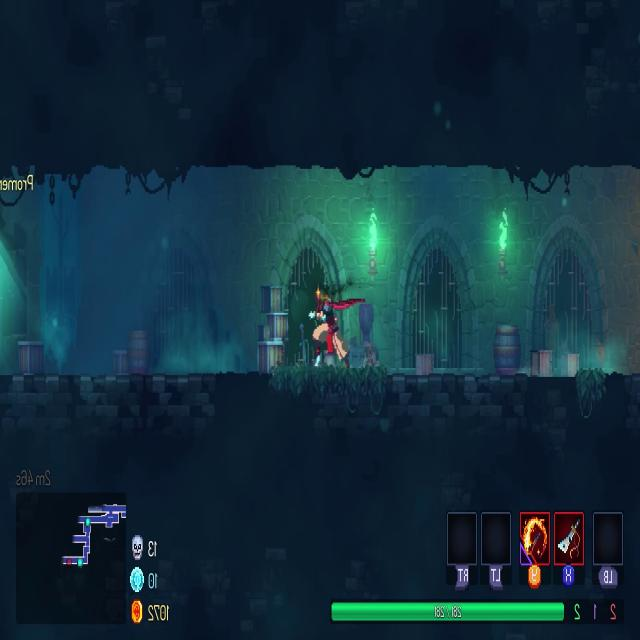agents: (310, 288, 350, 370)
door_nextLevel: (4, 166, 50, 378)
